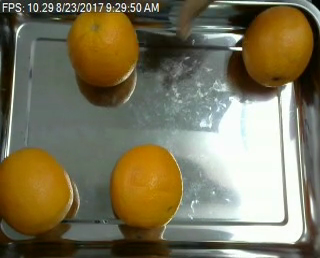Orange: (109, 143, 184, 228), (1, 148, 74, 234), (241, 5, 314, 87), (67, 11, 139, 86)
